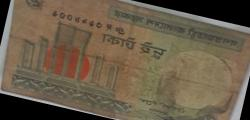2 taka: (12, 1, 240, 115)
